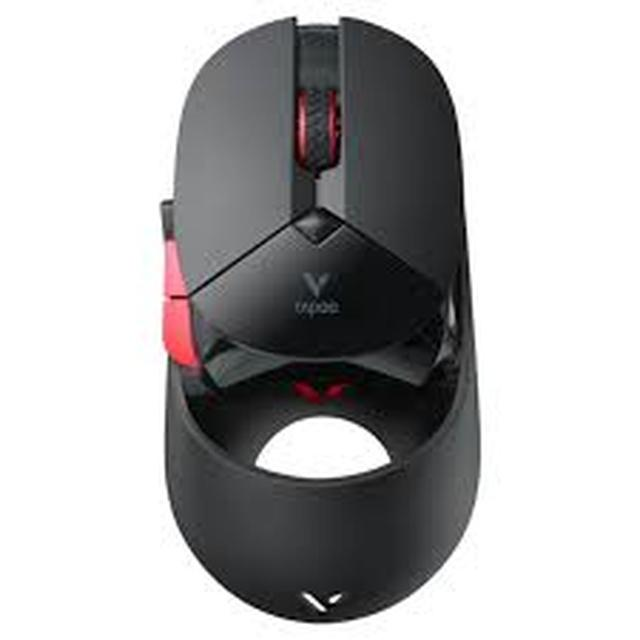mouse: (142, 2, 500, 620)
